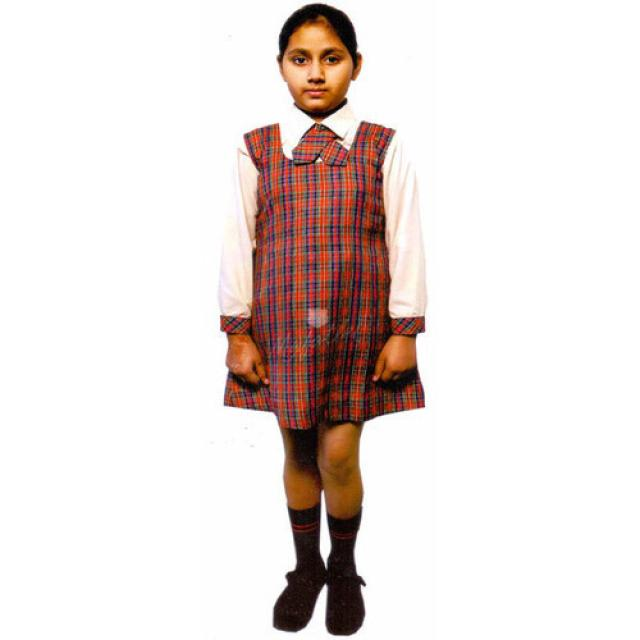child: (214, 1, 443, 638)
